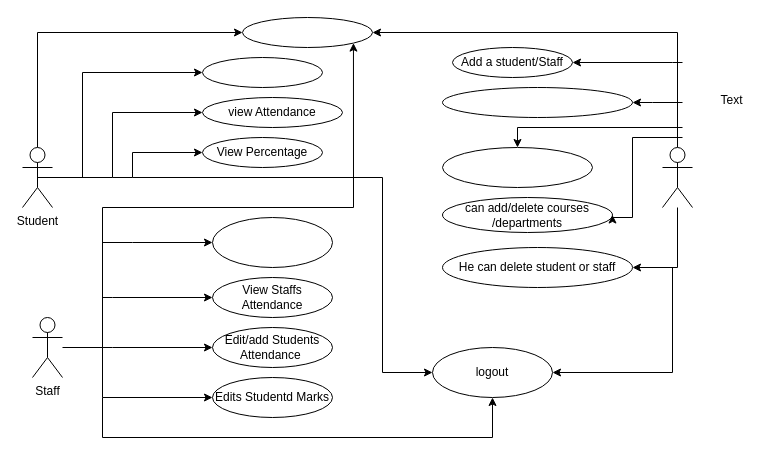
Image size: 769x463. Some labels were removed from this diagram. Here are the shapes that lost their labels. From the top down, the centre of each, then its label:
At [307,32]: "Register/Login".
At [262,72]: "View/Update Profile".
At [537,102]: "Edit/view details of student/staff".
At [517,167]: "Give Attendance to staff".
At [677,177]: "Admin".
At [272,242]: "Update/View Staffs Profile".
